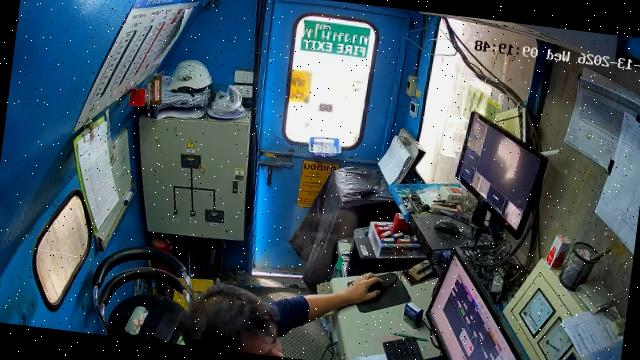People: (182, 275, 382, 359)
Phone: (150, 309, 182, 342), (139, 313, 160, 337)
